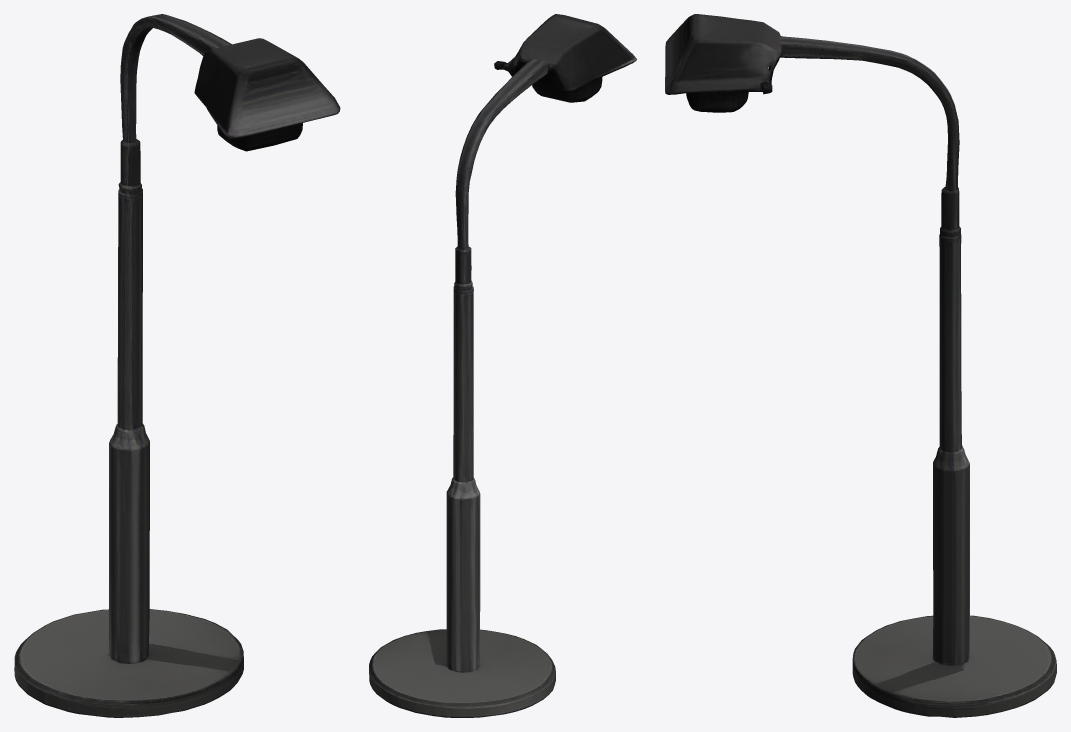
File: edit_mesh.glb
3 renders of one model, left to right at view 1: azimuth 30°, elevation 25°; view 2: azimuth 150°, elevation 25°; view 3: azimuth 270°, elevation 25°, orthographic. The views are drawn at different scales.
Visible parts, largest first — view 1: world; view 2: world; view 3: world.
Boxes of the visible parts, x1=… form: world: x1=14, y1=14, x2=340, y2=717; world: x1=369, y1=14, x2=636, y2=717; world: x1=665, y1=14, x2=1056, y2=717.
Size of the model in its own units: 0.2946 by 0.9883 by 0.5417.
1 material, 1 textured.
